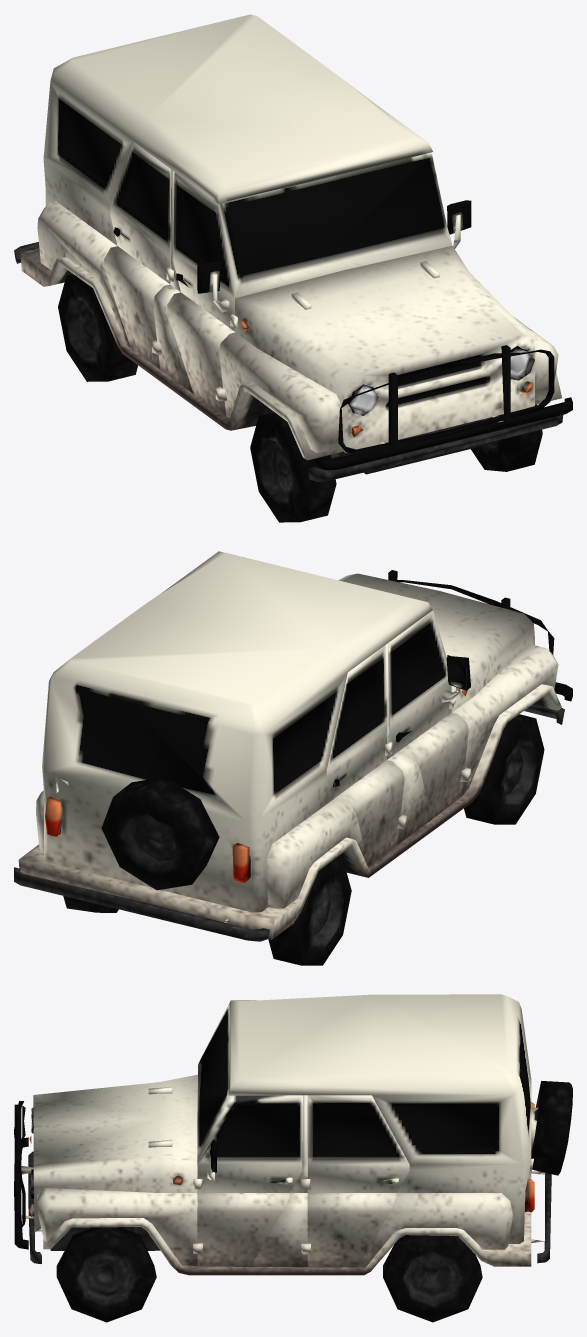
File: VehicleNew.glb
3 renders of one model, top to bottom at view 1: azimuth 30°, elevation 25°; view 2: azimuth 150°, elevation 25°; view 3: azimuth 270°, elevation 25°, orthographic. The views are drawn at different scales.
Parts seen in each view (by area): view 1: Vehicle; view 2: Vehicle; view 3: Vehicle.
Part boxes in pixels (<box>): Vehicle: <box>14,14,572,522</box>; Vehicle: <box>14,551,572,965</box>; Vehicle: <box>14,994,572,1322</box>.
Size of the model in its own units: 1.48 by 1.48 by 3.09.
Materials: 1 (1 with a texture image).
